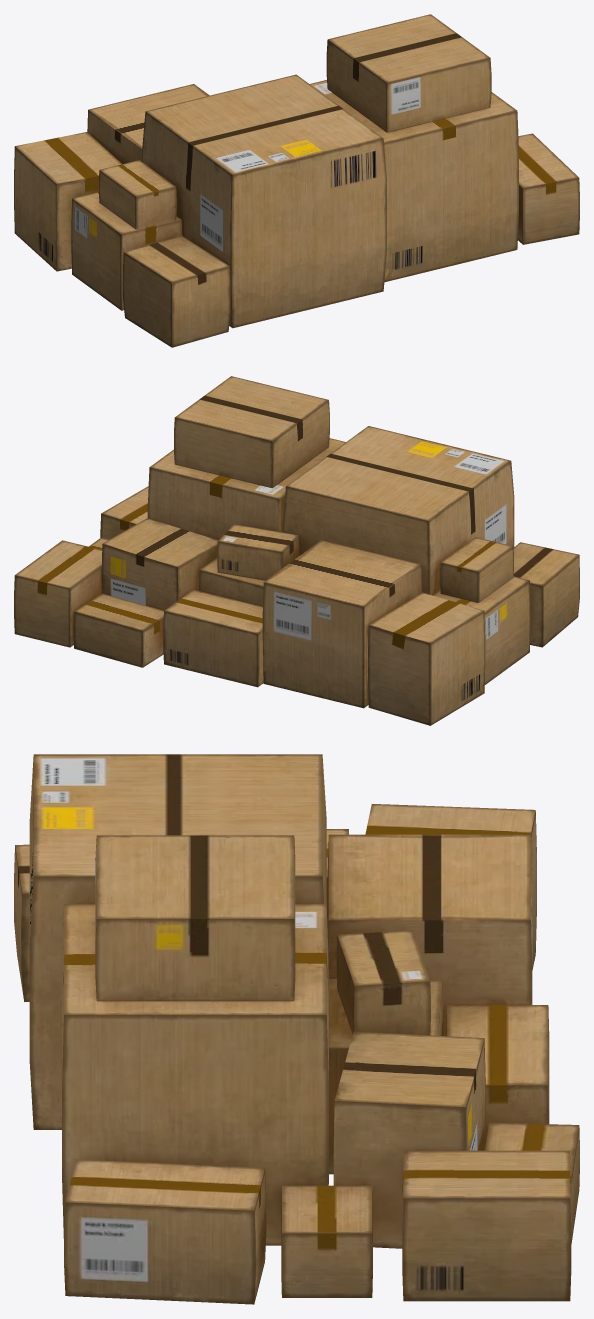
File: 静物_其它_Paperboxes_opt.glb
3 views of the same model, one above another, from view 1: azimuth 30°, elevation 25°; view 2: azimuth 150°, elevation 25°; view 3: azimuth 270°, elevation 25° (orthographic). The views are drawn at different scales.
Visible parts, largest first — view 1: defaultMaterial; view 2: defaultMaterial; view 3: defaultMaterial.
Boxes of the visible parts, x1=… form: defaultMaterial: x1=14, y1=14, x2=579, y2=347; defaultMaterial: x1=14, y1=376, x2=579, y2=725; defaultMaterial: x1=14, y1=754, x2=579, y2=1304.
Bounding box in the file's own units: 0.7335 × 0.3 × 0.4917.
Materials: 1 (1 with a texture image).
